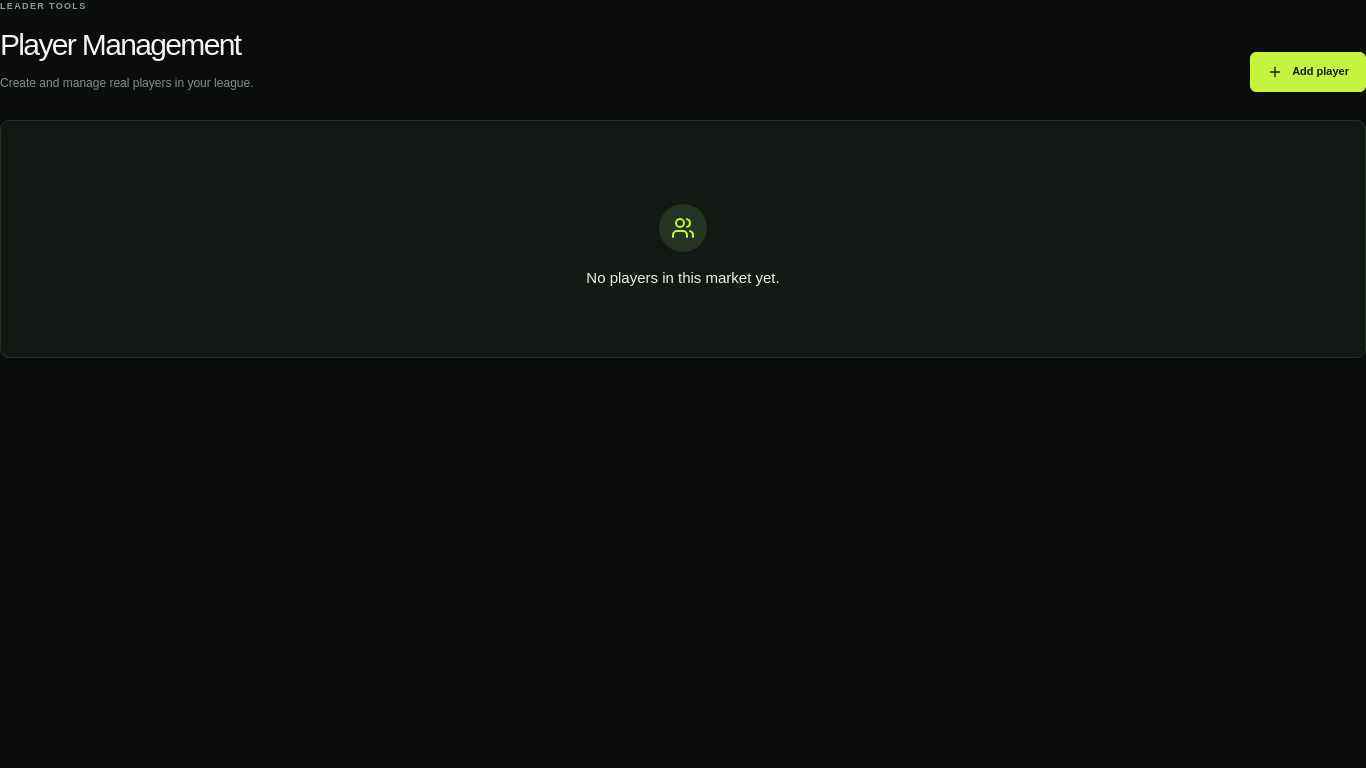
Test case: Live market player dialog › opens modally and closes after a successful save
Click the button "Add player": point(1308, 72) [1250, 52, 1365, 92]
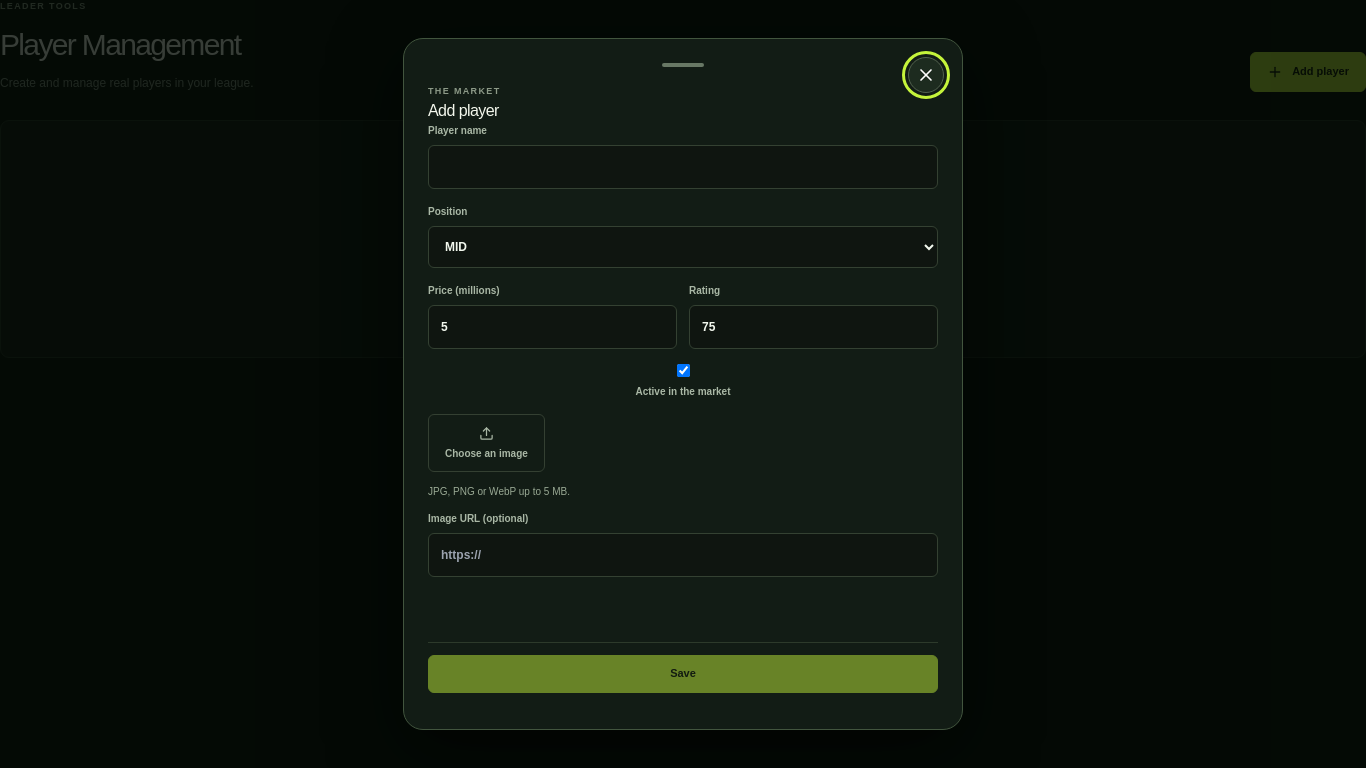
Now the form is shown, box [428, 123, 938, 640]
In the field labelled "Player name": point(683, 167) [428, 145, 938, 189], type "New Market Player"
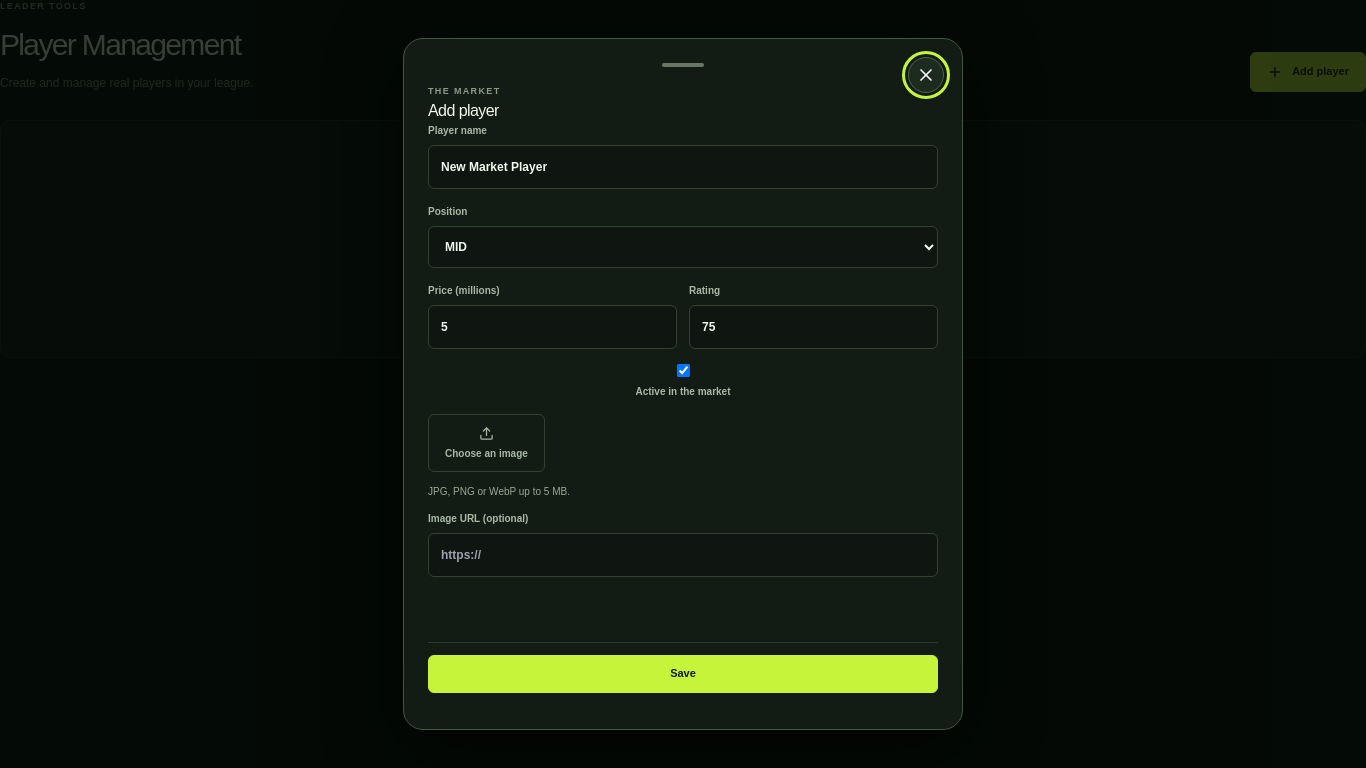
Click the button "Save": point(683, 674) [428, 655, 938, 693]
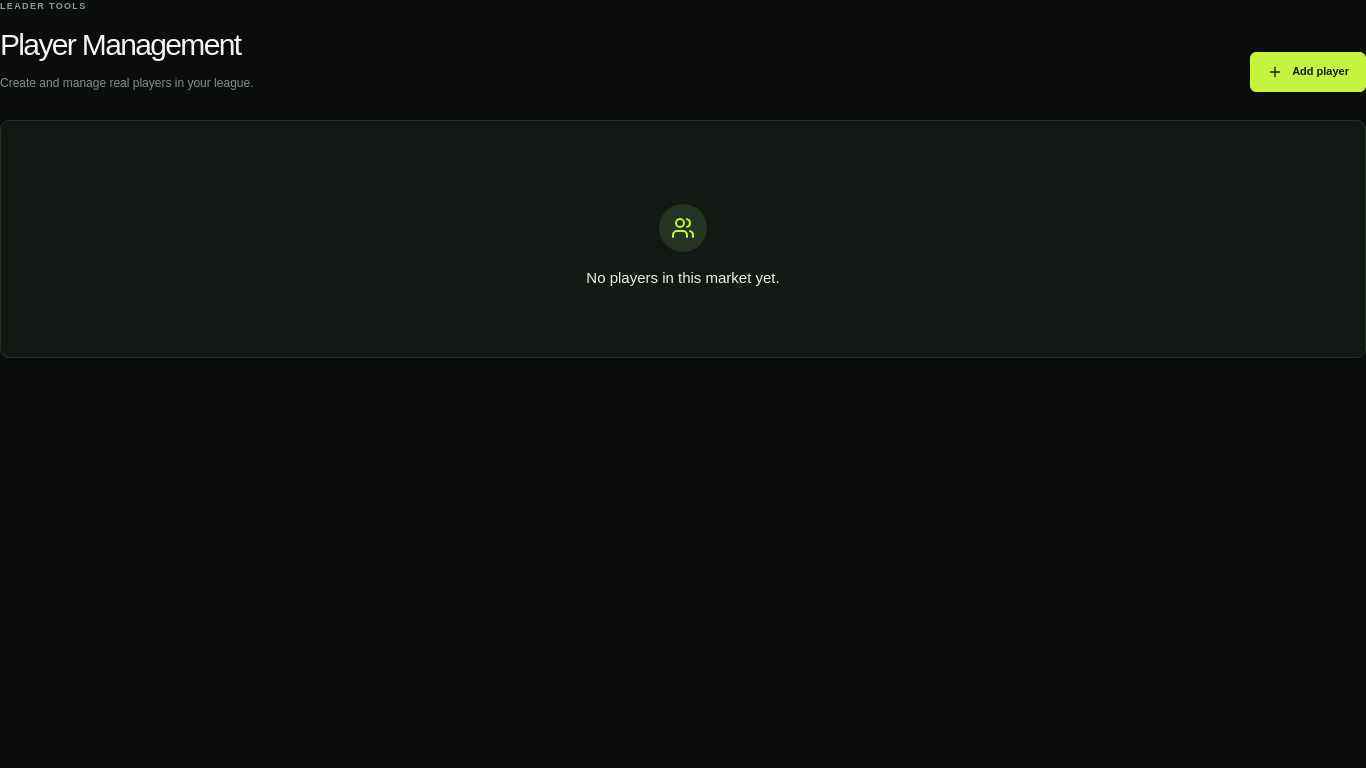
Now the dialog is gone
